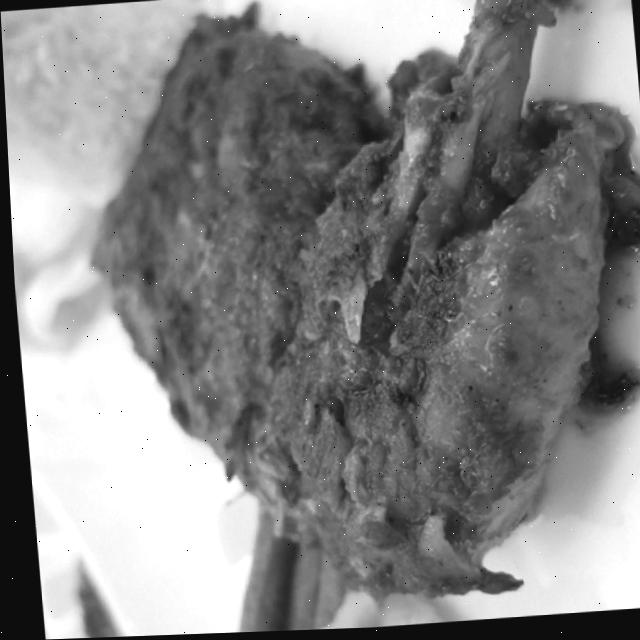鸡肉料理 含炸鸡: (37, 0, 640, 639)
